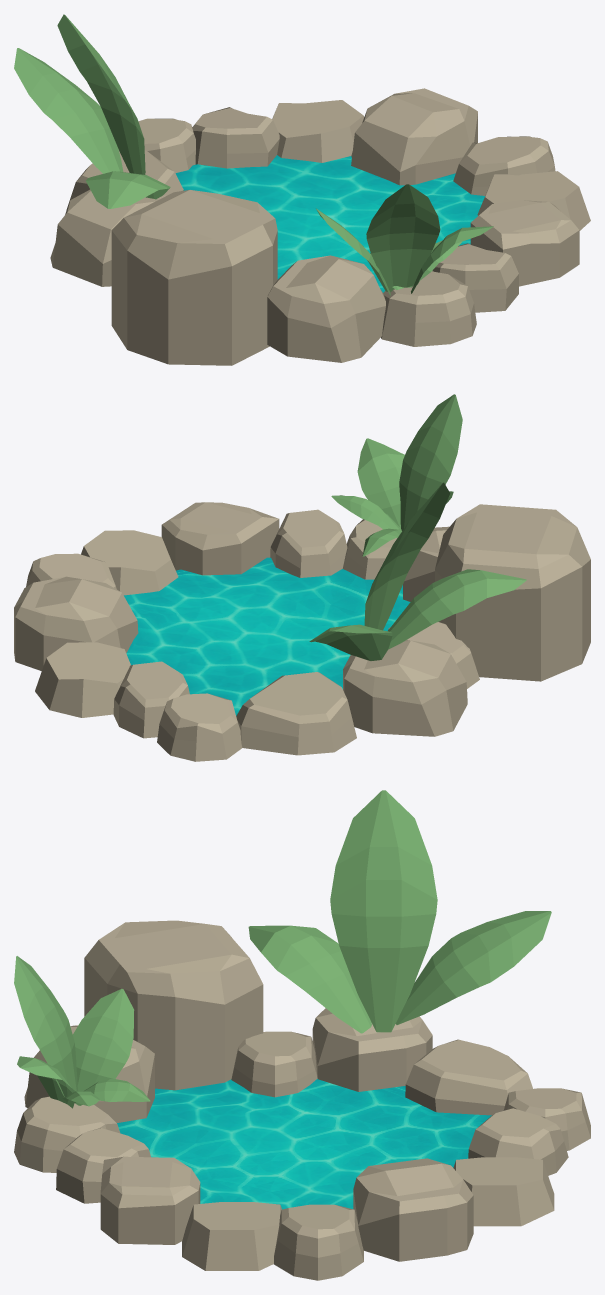
The model's file is hotspring.glb.
3 views of the same model, one above another, from view 1: azimuth 30°, elevation 25°; view 2: azimuth 150°, elevation 25°; view 3: azimuth 270°, elevation 25° (orthographic). The views are drawn at different scales.
Parts seen in each view (by area): view 1: rock6.002, Plane.001, rock4.003, rock1.005, rock8.002, Cube.046, Plane.004, Plane.007, rock1.003, Cube.084, Cube.083, Plane.002 (+8 smaller); view 2: Plane.001, rock6.002, rock1.003, rock1.005, Cube.031, rock8.002, Cube.084, Cube.044, Plane.007, Plane.005, Cube.047, Cube (+10 smaller); view 3: Plane.001, rock6.002, Plane.002, rock1.005, rock8.002, Plane.004, rock1.003, Cube.031, Plane.005, Cube, Cube.082, Cube.084 (+10 smaller).
Part boxes in pixels (<box>): rock6.002: <box>111,190,277,365</box>; Plane.001: <box>175,155,484,292</box>; rock4.003: <box>267,255,385,362</box>; rock1.005: <box>351,88,477,185</box>; rock8.002: <box>470,200,579,286</box>; Cube.046: <box>381,271,476,346</box>; Plane.004: <box>14,48,123,173</box>; Plane.007: <box>366,184,440,292</box>; rock1.003: <box>50,189,166,286</box>; Cube.084: <box>272,100,364,162</box>; Cube.083: <box>192,107,279,168</box>; Plane.002: <box>57,14,145,174</box>; Plane.001: <box>124,557,410,715</box>; rock6.002: <box>435,504,590,681</box>; rock1.003: <box>343,640,467,736</box>; rock1.005: <box>14,576,138,670</box>; Cube.031: <box>236,672,356,755</box>; rock8.002: <box>161,502,279,575</box>; Cube.084: <box>35,642,130,717</box>; Cube.044: <box>157,693,242,761</box>; Plane.007: <box>399,394,462,530</box>; Plane.005: <box>388,569,526,649</box>; Cube.047: <box>270,509,347,577</box>; Cube: <box>81,530,178,595</box>; Plane.001: <box>117,1079,491,1209</box>; rock6.002: <box>84,920,263,1090</box>; Plane.002: <box>330,790,437,1032</box>; rock1.005: <box>353,1158,473,1261</box>; rock8.002: <box>100,1156,200,1244</box>; Plane.004: <box>395,911,551,1024</box>; rock1.003: <box>312,1008,432,1091</box>; Cube.031: <box>405,1039,532,1115</box>; Plane.005: <box>248,925,371,1033</box>; Cube: <box>182,1202,281,1270</box>; Cube.082: <box>274,1204,363,1280</box>; Cube.084: <box>453,1157,554,1226</box>.
Bounding box in the file's own units: 11.84 × 5.7 × 11.48.
Materials: 14 (1 with a texture image).
